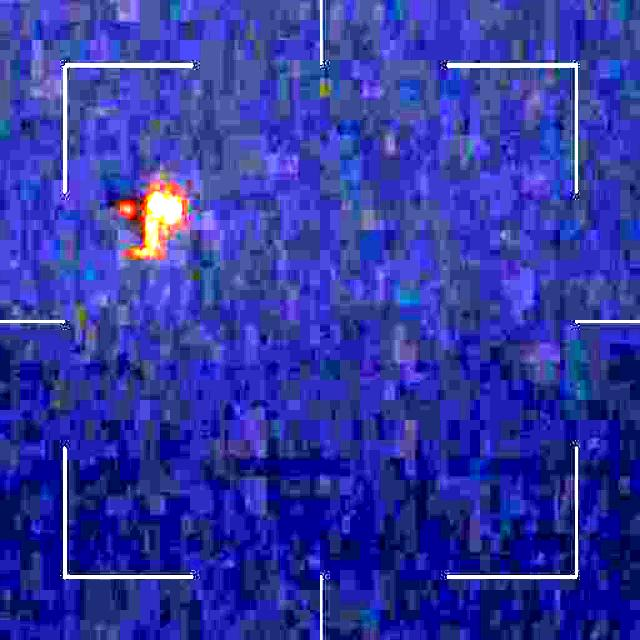bird: (96, 182, 184, 255)
